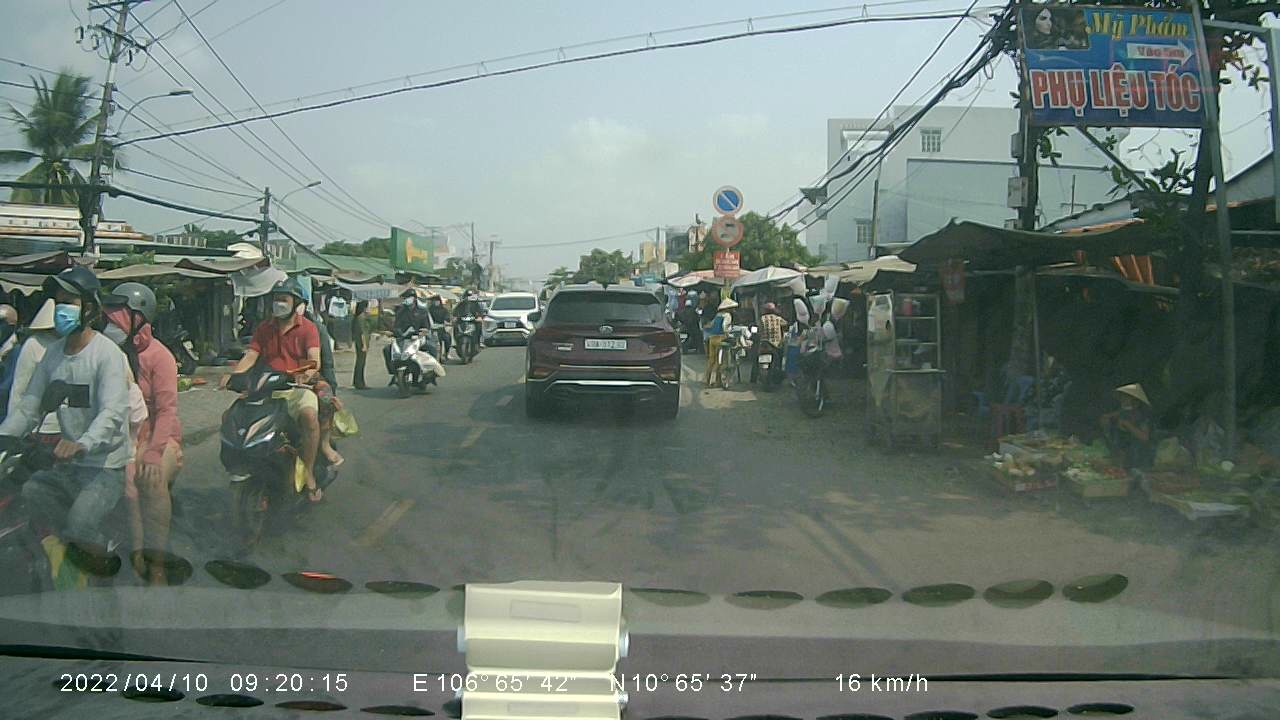Bien khac: (707, 213, 746, 248)
Cam do xe: (709, 180, 744, 215)
